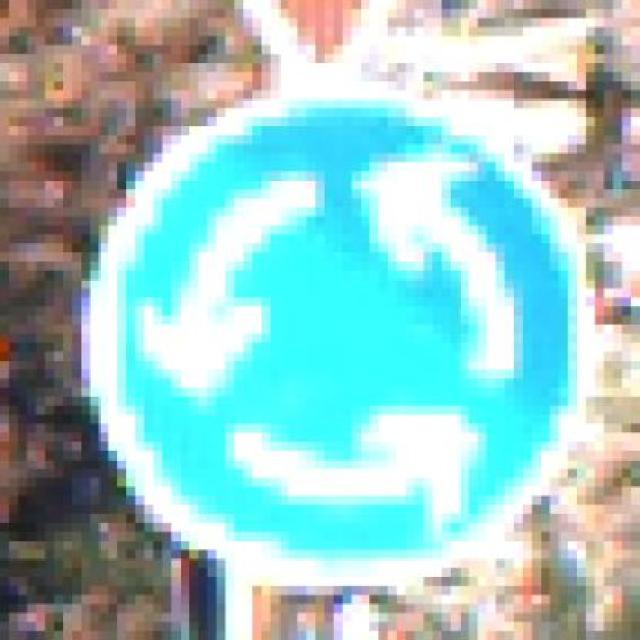Round-About: (36, 63, 613, 595)
